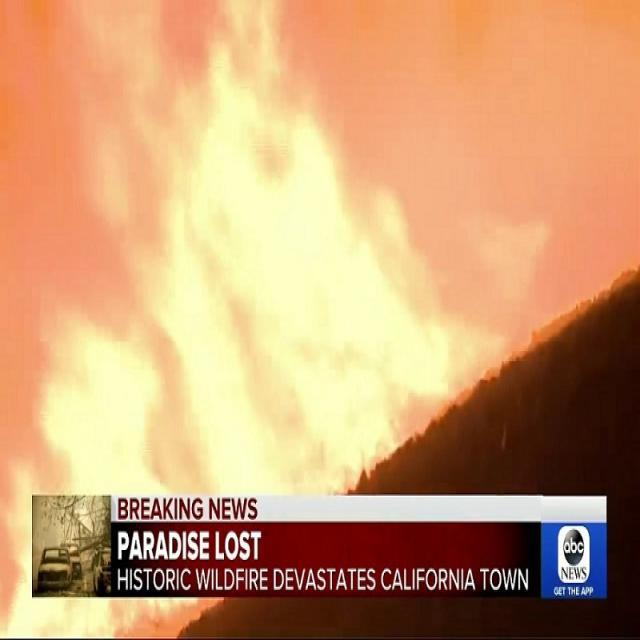Fire: (3, 8, 515, 450)
